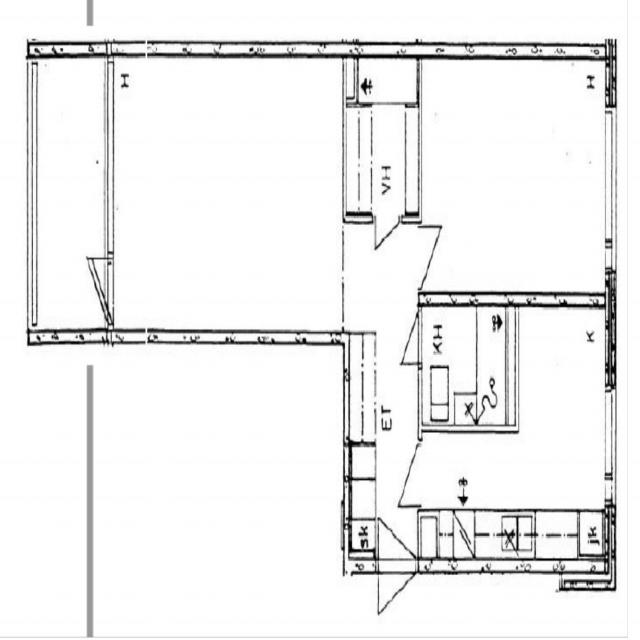door: (377, 559, 415, 640), (378, 491, 415, 574), (71, 258, 113, 324), (382, 440, 422, 507), (418, 226, 455, 288), (388, 310, 422, 363), (418, 166, 447, 212), (375, 214, 399, 268)
